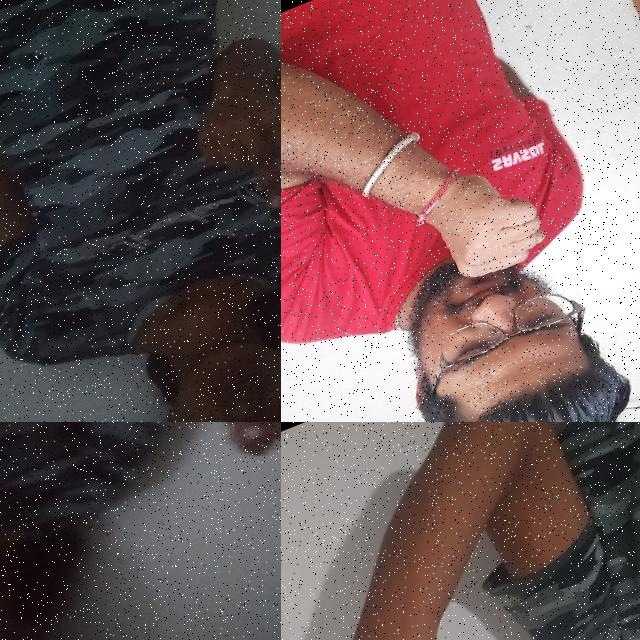Fist Mouth: (331, 148, 640, 422)
Middle Finger: (159, 22, 281, 235)
Okay: (190, 422, 281, 541)
Reversed Victory: (297, 570, 592, 640)
